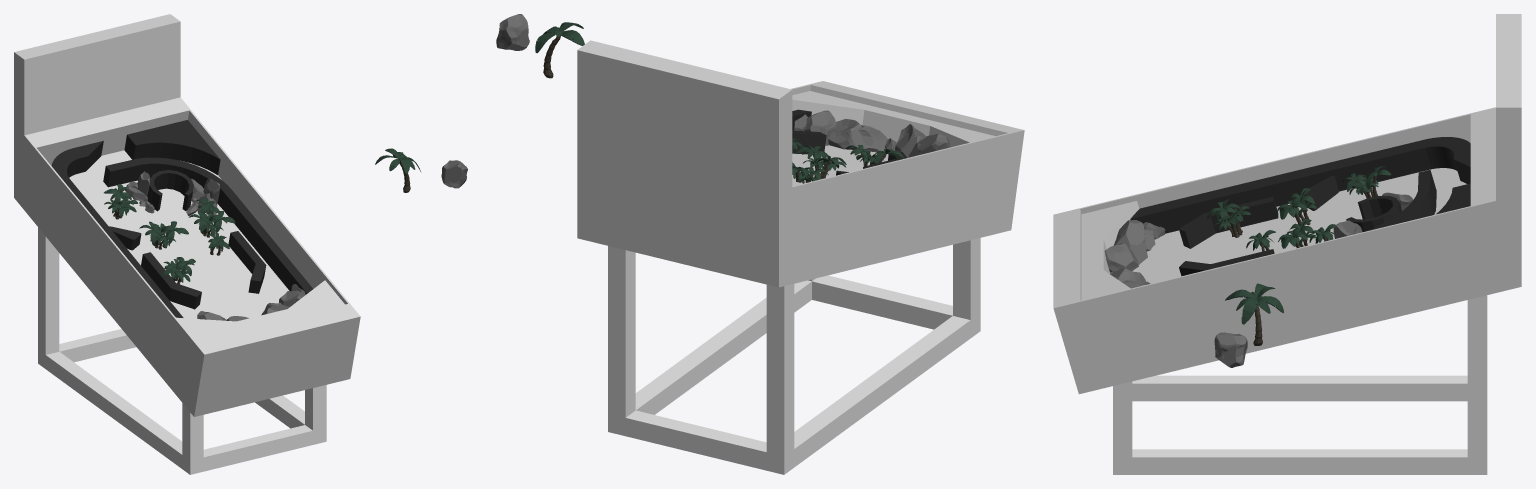
Rendered from pinball3.fbx.
3 views of the same model, side by side, from view 1: azimuth 30°, elevation 25°; view 2: azimuth 150°, elevation 25°; view 3: azimuth 270°, elevation 25° (orthographic). The views are drawn at different scales.
Visible parts, largest first — view 1: Machine, Base, Rocks, Rocks2, Trees5, Trees4, Trees3, Rock1, Tree2.007, Trees6; view 2: Machine, Base, Rocks2, Rock1, Tree2.007, Trees5, Trees6; view 3: Machine, Base, Rocks2, Tree2.007, Rock1, Trees6, Trees5, Trees4, Rocks, Trees3.
Part boxes in pixels (x1,y1,x2,y2): Machine: (14, 14, 360, 416); Base: (38, 227, 326, 474); Rocks: (125, 171, 219, 215); Rocks2: (197, 284, 305, 321); Trees5: (139, 221, 188, 249); Trees4: (104, 183, 137, 219); Trees3: (188, 211, 235, 237); Rock1: (441, 160, 467, 188); Tree2.007: (375, 148, 421, 192); Trees6: (162, 257, 195, 284); Machine: (577, 40, 1024, 287); Base: (608, 238, 980, 474); Rocks2: (793, 110, 950, 157); Rock1: (496, 14, 529, 50); Tree2.007: (535, 22, 584, 78); Trees5: (795, 145, 846, 180); Trees6: (845, 145, 903, 166); Machine: (1053, 14, 1521, 394); Base: (1113, 295, 1487, 474); Rocks2: (1104, 220, 1165, 288); Tree2.007: (1225, 283, 1283, 345); Rock1: (1214, 332, 1247, 367); Trees6: (1207, 199, 1250, 237); Trees5: (1276, 188, 1316, 225); Trees4: (1342, 166, 1391, 198); Rocks: (1333, 192, 1412, 238); Trees3: (1278, 219, 1315, 248).
Size of the model in its own units: 2150 by 1864 by 2119.
